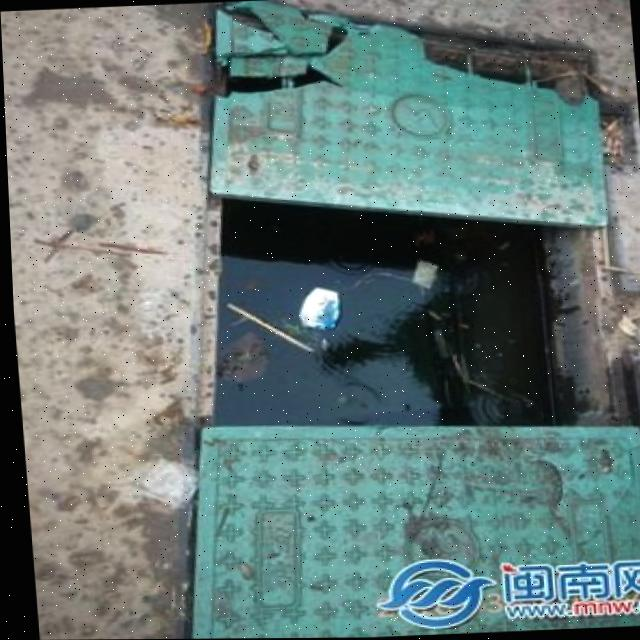manhole: (168, 0, 640, 445)
